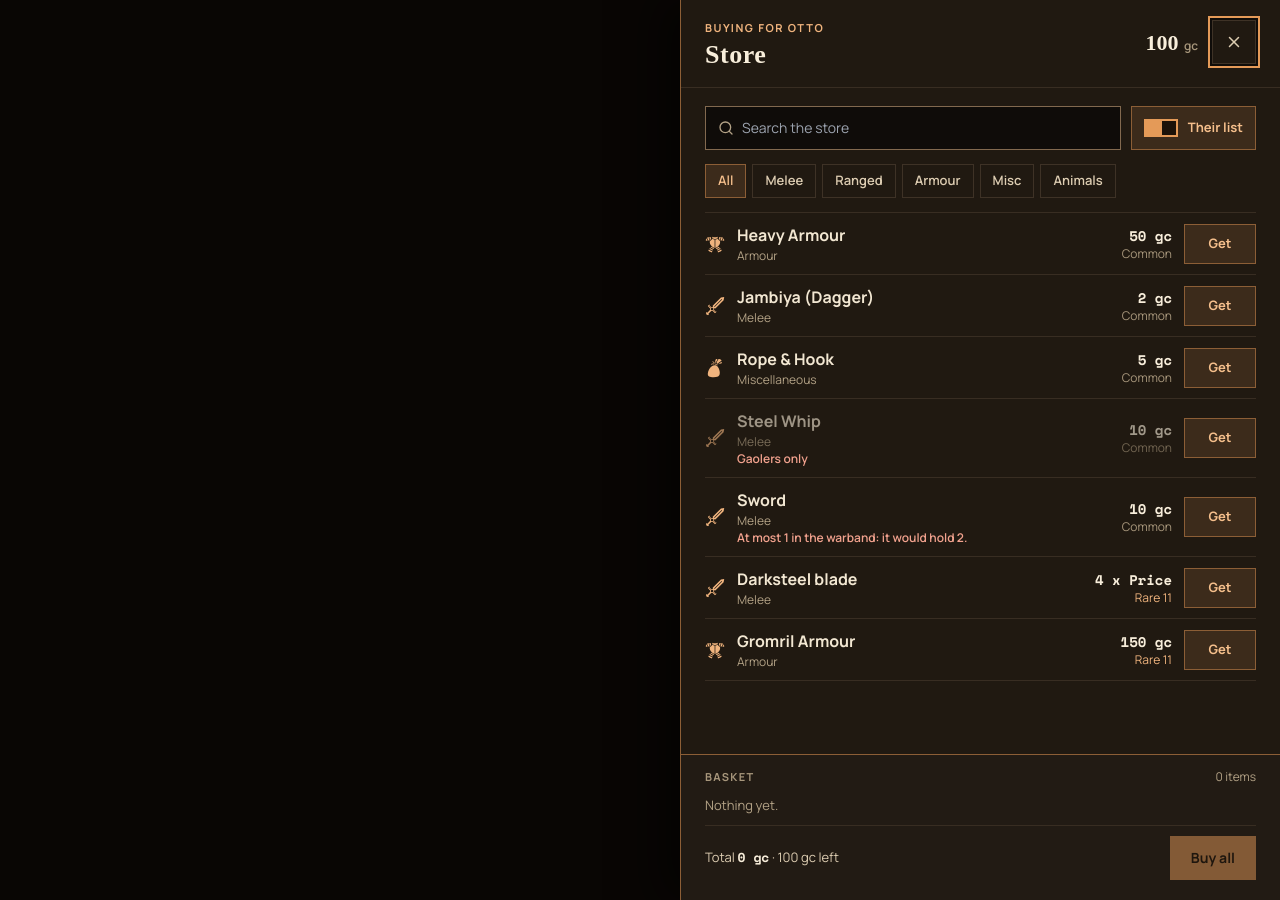
Test case: StorePanel, buying for a unit from the template › offers a material his list sells with that list's weapons only
Click the 6th button "Get".
click(1220, 588)  # box x1=1184 y1=568 x2=1256 y2=608
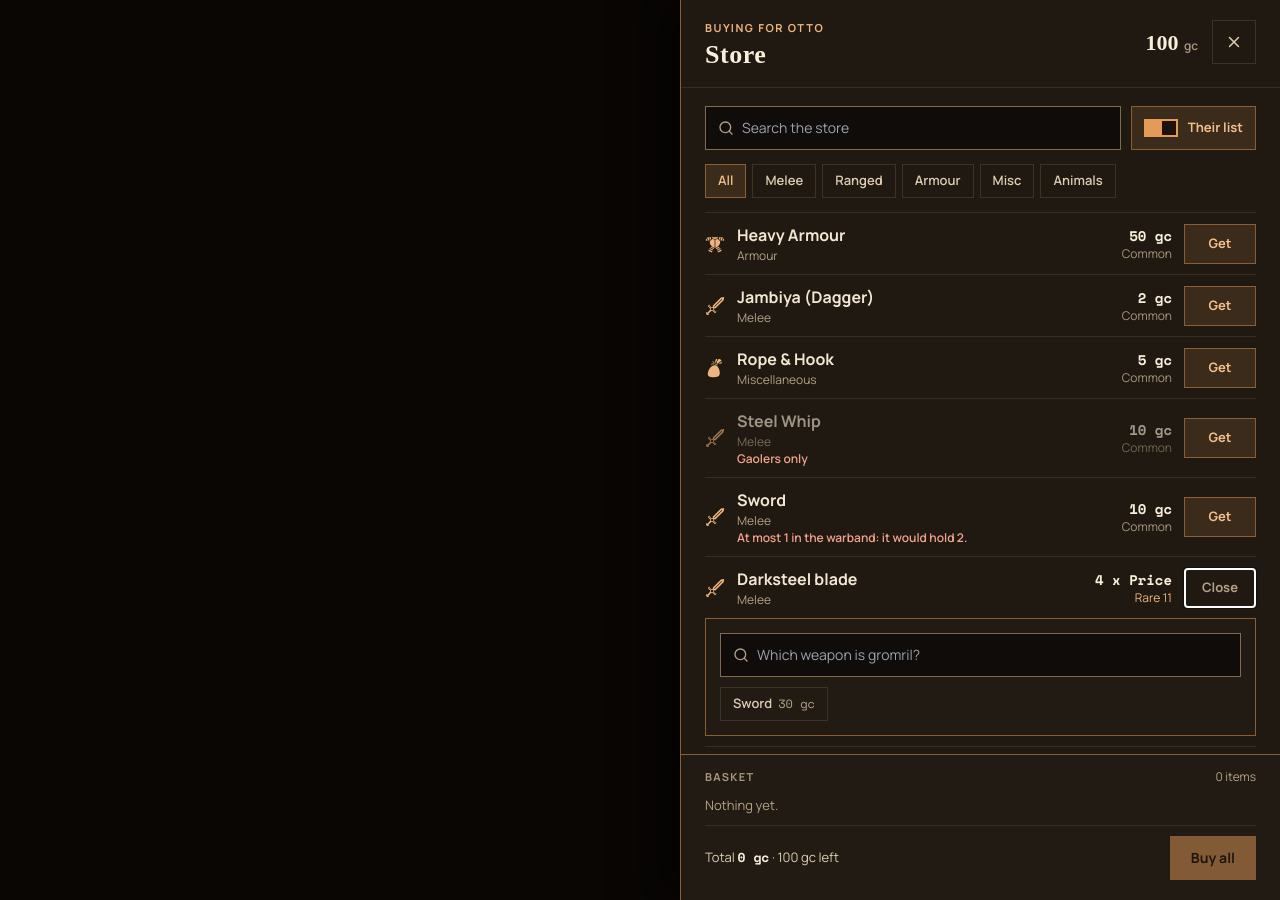
Now the buttons read "Sword30 gc", in this order, box x1=720 y1=687 x2=828 y2=721
